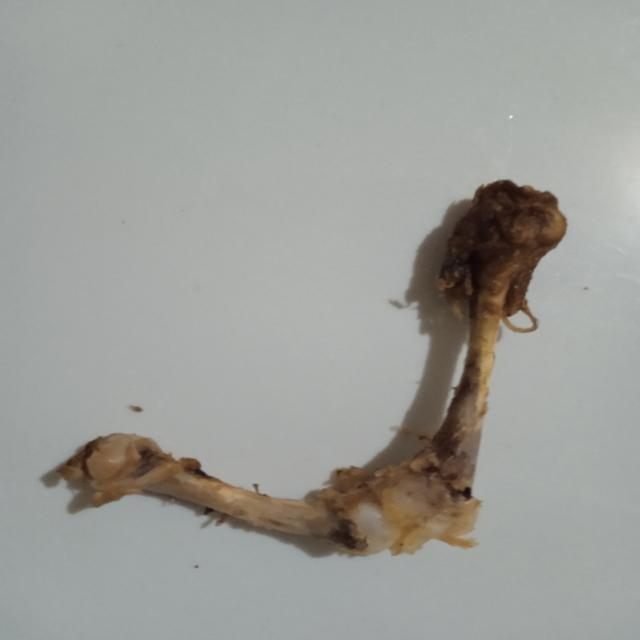bone: (36, 173, 575, 571)
